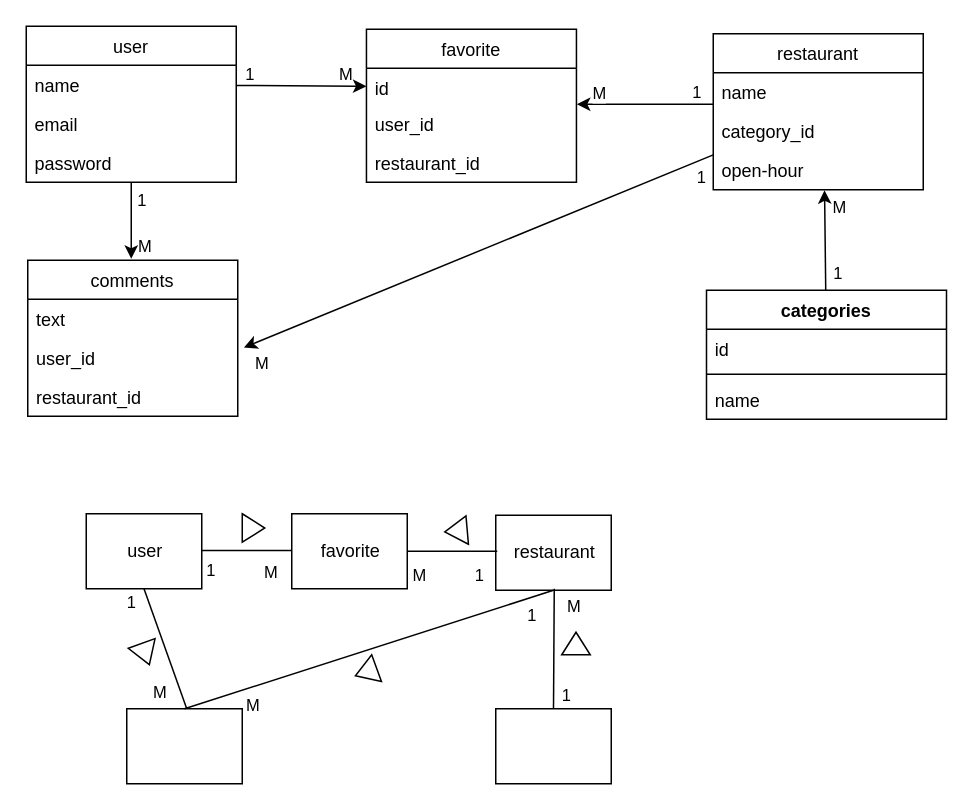
This 974x810 diagram has some shape labels left out. Each missing label, with the centre of its shape:
"category" goes at [552,745].
"comment" goes at [183,745].
